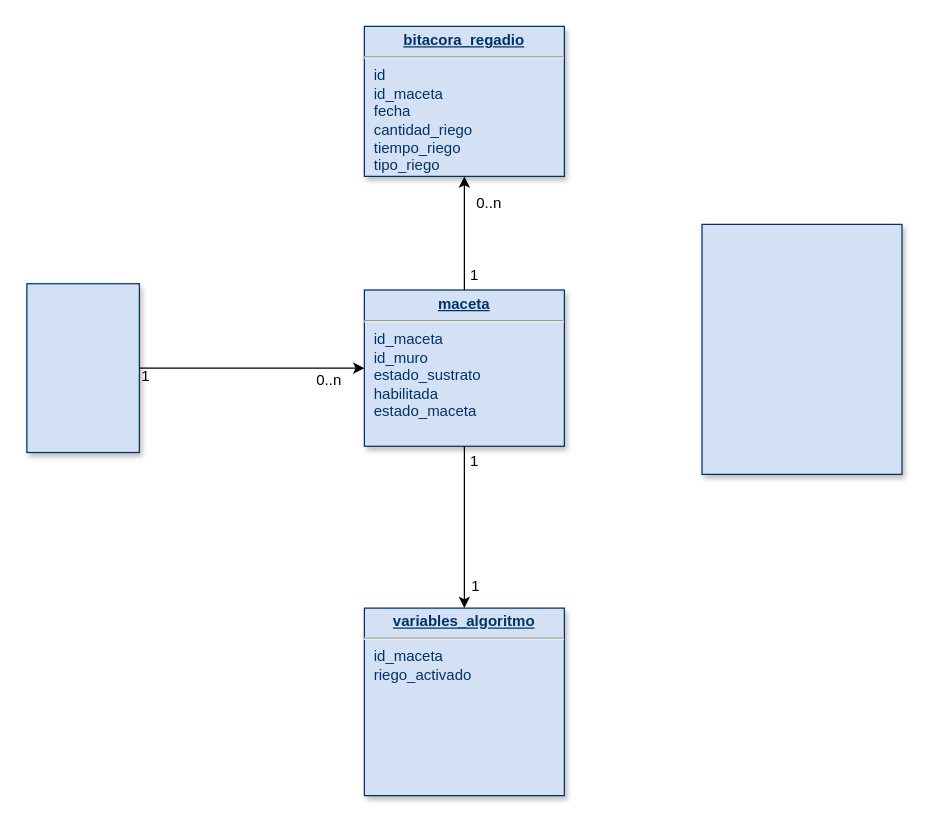
This 933x828 diagram has some shape labels left out. The centre of each missing label's shape, as x and y in pixels:
muro id_muro comuna direccion habilitado: pixel 84 369
usuario id_usuario nombre apellido cargo usuario password activado: pixel 803 350
